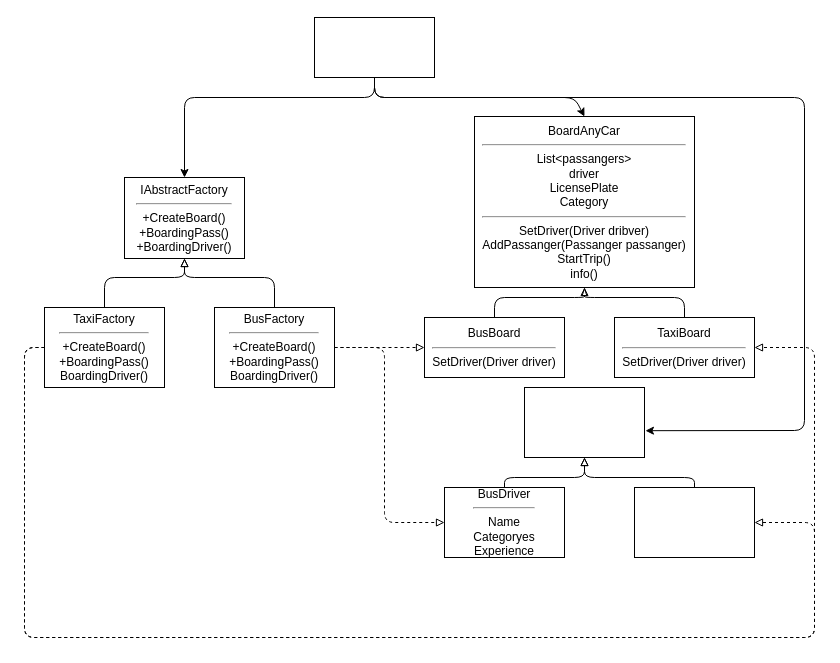
This 840x663 diagram has some shape labels left out. The box of each missing label's shape, as (x1, y1, x2, y2) in pixels:
Client: (314, 16, 434, 78)
Driver Name Categoryes Experience: (524, 386, 644, 458)
TaxiDriver Name Categoryes Experience: (634, 486, 754, 558)
